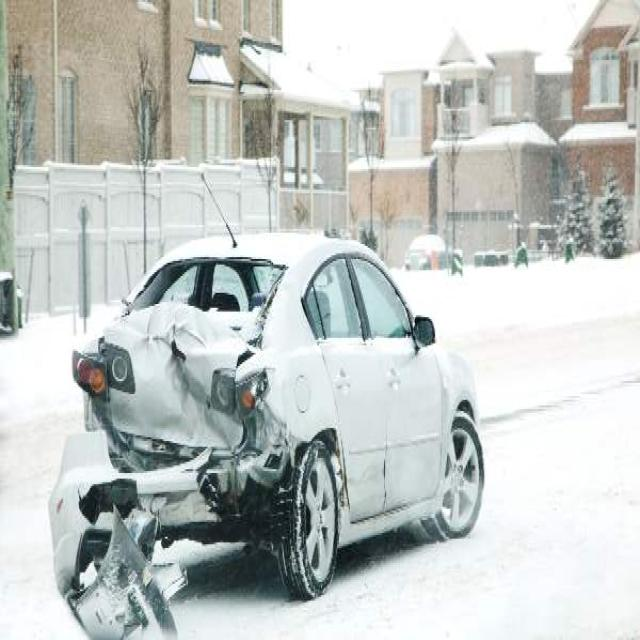Accident: (45, 223, 484, 640)
